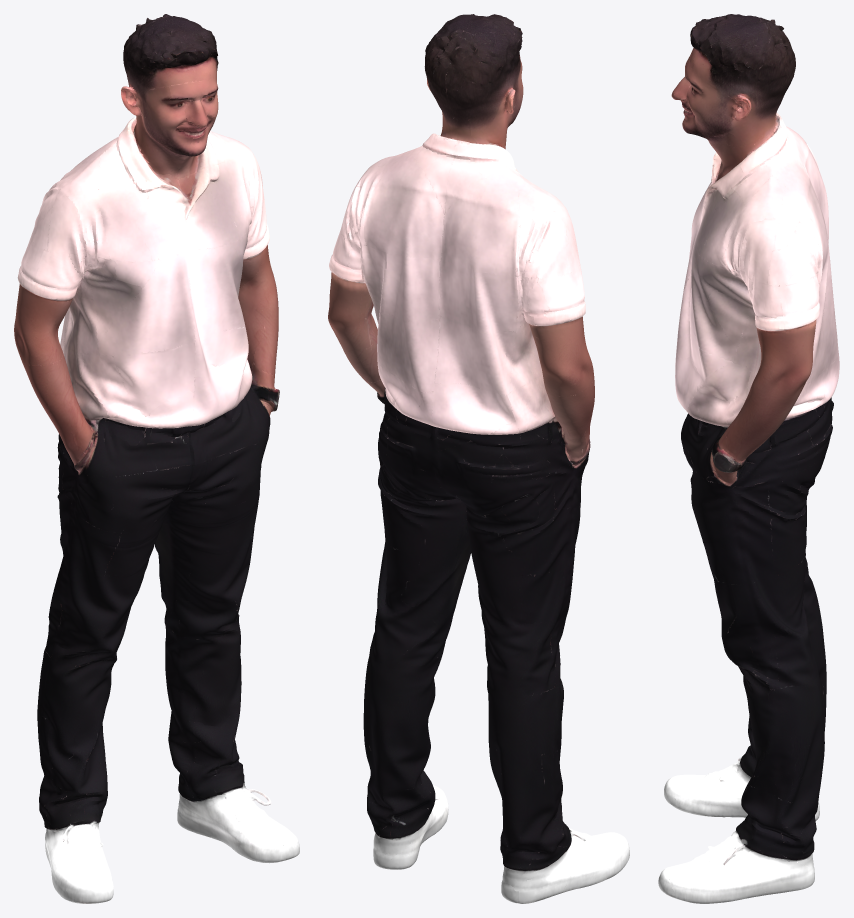
The model's file is matt.glb.
The picture shows the model from 3 angles, left to right: view 1: azimuth 30°, elevation 25°; view 2: azimuth 150°, elevation 25°; view 3: azimuth 270°, elevation 25°; orthographic projection.
Visible parts, largest first — view 1: Mesh_0; view 2: Mesh_0; view 3: Mesh_0.
Part boxes in pixels (box(x1,y1,x2,y2)): Mesh_0: box(14, 14, 299, 903); Mesh_0: box(328, 14, 629, 903); Mesh_0: box(658, 14, 839, 903).
Bounding box in the file's own units: 0.595 × 1.9 × 0.3725.
Materials: 1 (1 with a texture image).
